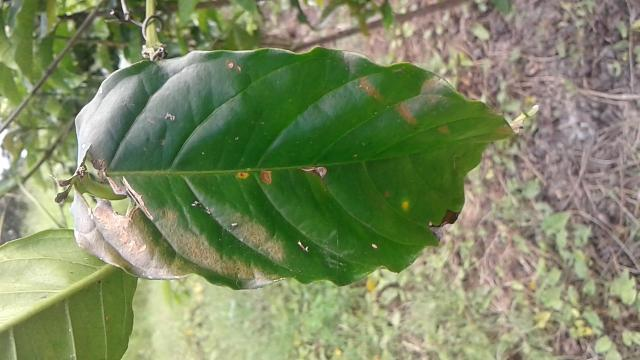rust_level_1: (70, 46, 530, 287)
